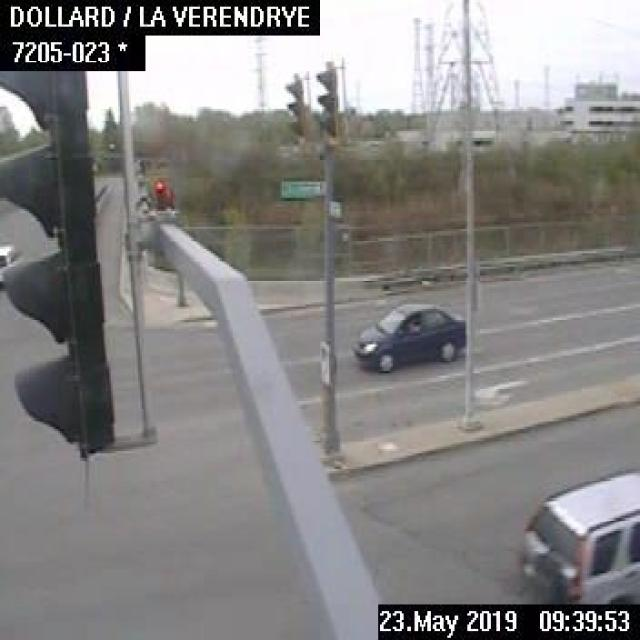vehicle: (515, 462, 638, 600), (354, 304, 464, 371), (0, 242, 18, 287)
